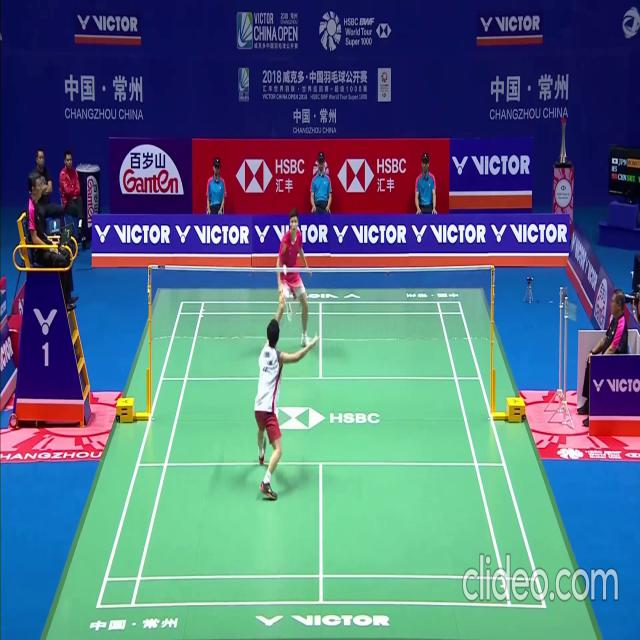Shuttlecock: (283, 269, 288, 276)
